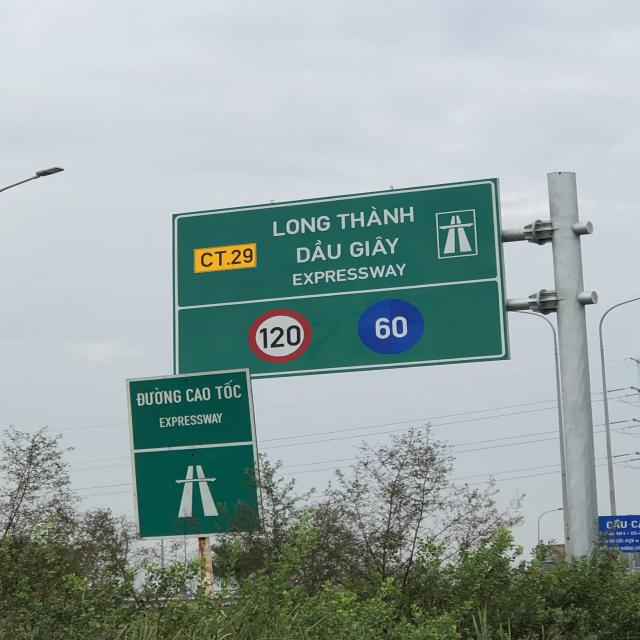Bien bao toc do toi thieu cho phep: (353, 296, 430, 357)
